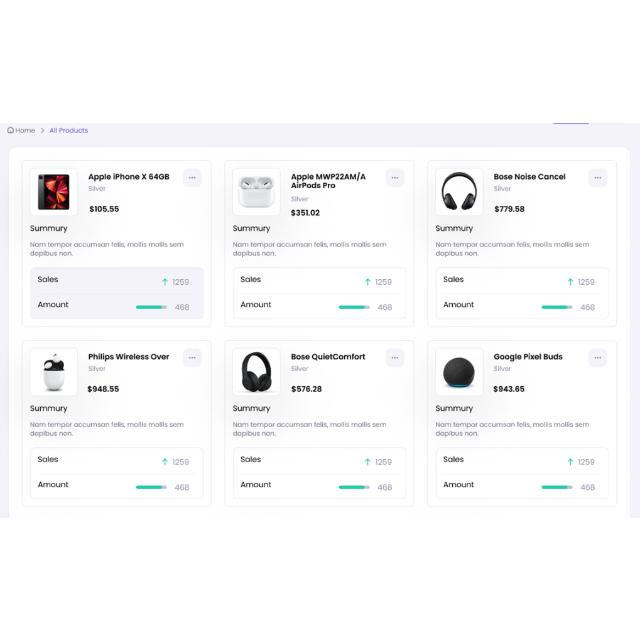QLabel: (29, 240, 185, 256), (232, 241, 388, 257), (434, 421, 590, 437), (231, 421, 387, 437), (436, 240, 590, 256), (29, 422, 184, 436), (290, 170, 366, 188), (88, 352, 168, 362), (89, 172, 170, 180), (290, 352, 366, 360), (494, 172, 566, 180), (493, 353, 562, 361), (232, 404, 272, 414), (435, 403, 473, 412), (29, 403, 67, 412), (28, 224, 68, 232), (290, 383, 322, 393), (232, 224, 270, 232), (89, 203, 119, 213), (436, 224, 472, 232), (240, 300, 272, 308), (493, 384, 525, 392), (240, 480, 272, 488), (87, 385, 119, 393), (442, 480, 473, 488), (38, 300, 68, 308), (290, 208, 320, 216), (494, 204, 524, 212), (444, 300, 474, 308), (38, 480, 68, 488), (240, 274, 262, 282), (240, 455, 262, 463), (38, 275, 58, 283), (172, 458, 190, 466), (174, 302, 190, 310), (376, 278, 392, 286), (580, 302, 596, 310), (375, 458, 391, 466), (174, 483, 190, 491), (292, 364, 308, 372), (442, 276, 463, 282), (444, 456, 464, 462), (38, 456, 58, 462), (378, 302, 392, 310), (580, 484, 596, 491), (291, 195, 309, 201), (493, 185, 511, 191), (494, 365, 512, 371), (88, 365, 105, 371), (378, 484, 392, 491), (172, 278, 188, 284), (578, 278, 594, 284), (578, 458, 594, 464), (88, 186, 105, 190)
VBreadcrumbs: (6, 124, 90, 134)
VCard: (7, 145, 631, 518), (20, 158, 214, 328), (425, 158, 619, 328), (20, 338, 214, 508), (224, 158, 416, 328), (426, 338, 618, 508), (224, 338, 416, 508), (232, 266, 408, 320), (435, 266, 609, 320), (30, 266, 204, 320), (233, 446, 407, 500), (434, 446, 610, 499), (29, 446, 204, 499), (434, 167, 484, 215)
VDivider: (240, 472, 398, 476), (37, 292, 195, 294), (240, 292, 398, 294), (38, 472, 194, 474), (444, 292, 600, 294), (443, 474, 601, 474)
VIcon: (390, 354, 400, 360), (567, 278, 573, 286), (568, 457, 574, 465), (594, 174, 602, 180), (162, 458, 168, 464), (162, 278, 168, 284), (366, 458, 370, 466), (188, 175, 196, 179), (594, 355, 602, 359), (391, 175, 399, 179), (366, 277, 370, 285), (188, 356, 196, 358)
VImg: (231, 166, 281, 216), (232, 346, 282, 396), (434, 346, 484, 396), (30, 348, 78, 397), (30, 167, 78, 215)
VProgressLinear: (541, 304, 573, 310), (135, 484, 167, 490), (338, 484, 369, 490), (540, 485, 574, 489), (338, 304, 370, 308), (136, 304, 168, 308)
